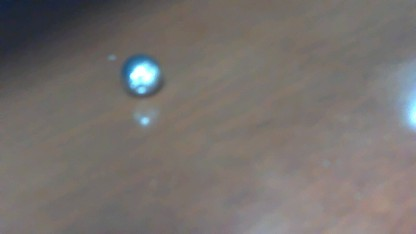ironball: (117, 48, 164, 91)
